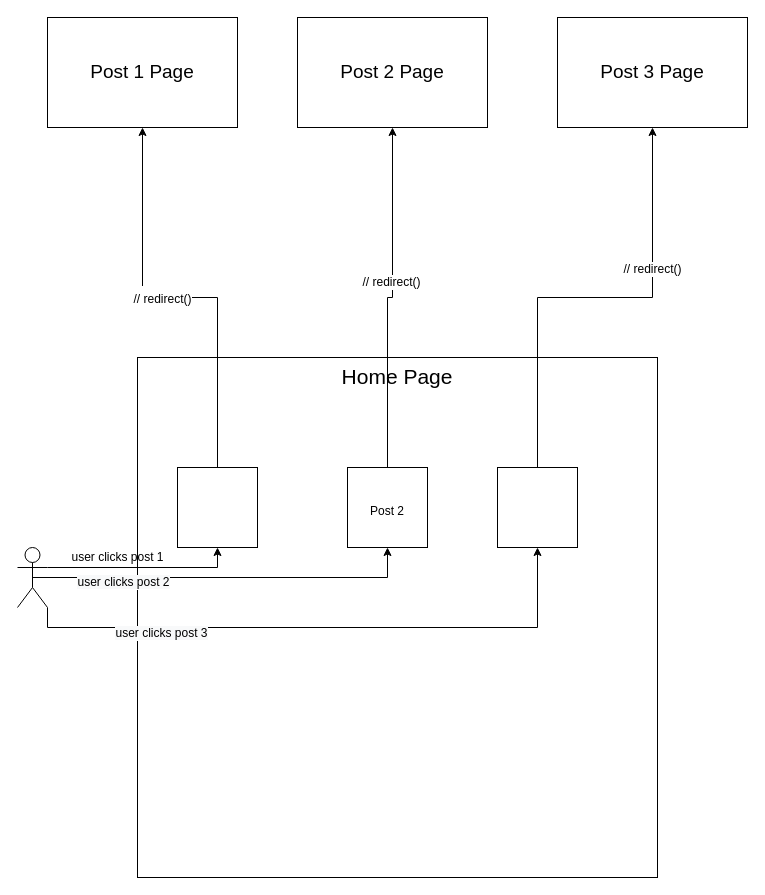
This 765x895 diagram has some shape labels left out. Each missing label, with the centre of its shape:
Post 1: pixel 217 507
Post 3: pixel 537 507
User: pixel 32 577
